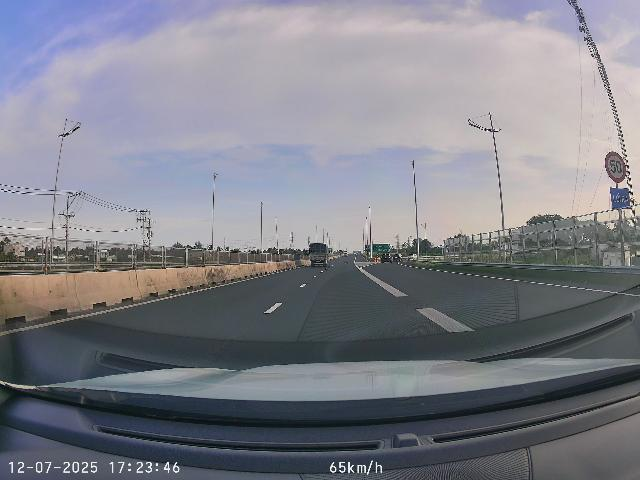127-toc-do-toi-da-50: (604, 151, 626, 184)
